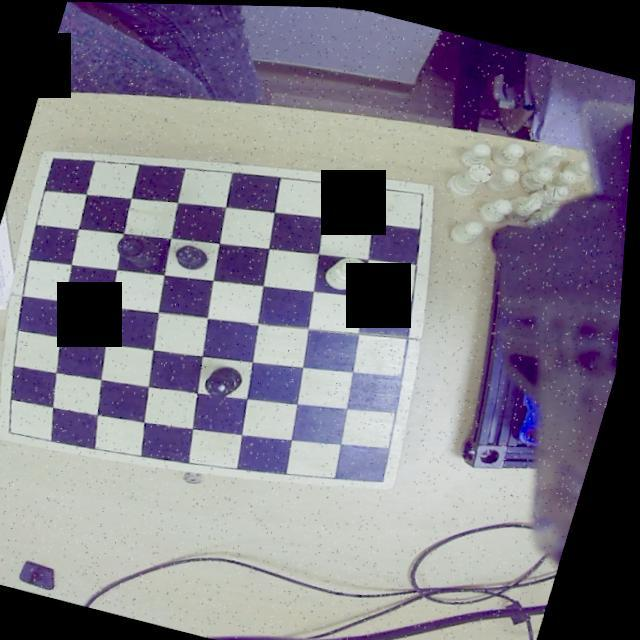chess-table-corners: (368, 460, 402, 490), (408, 180, 438, 209), (39, 146, 73, 171), (0, 415, 28, 441)
